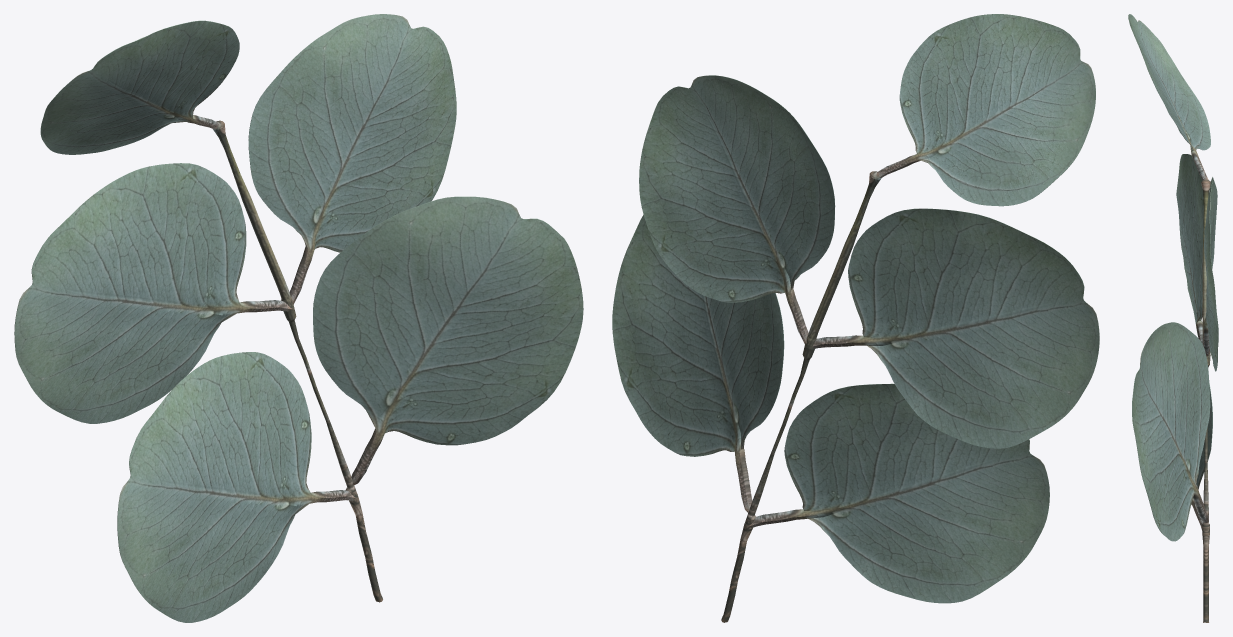
File: Eucalyptus.glb
The picture shows the model from 3 angles, left to right: view 1: azimuth 30°, elevation 25°; view 2: azimuth 150°, elevation 25°; view 3: azimuth 270°, elevation 25°; orthographic projection. The views are drawn at different scales.
Parts seen in each view (by area): view 1: Eucalyptus leaf.001, Eucalyptus leaf.004, Eucalyptus leaf.002, Eucalyptus leaf.005, Eucalyptus leaf.003; view 2: Eucalyptus leaf.004, Eucalyptus leaf.005, Eucalyptus leaf.002, Eucalyptus leaf.003, Eucalyptus leaf.001; view 3: Eucalyptus leaf.001, Eucalyptus leaf.003, Eucalyptus leaf.002, Eucalyptus leaf.004, Eucalyptus leaf.005.
Part boxes in pixels (x1,y1,x2,y2): Eucalyptus leaf.001: (313, 196, 583, 484); Eucalyptus leaf.004: (14, 163, 292, 423); Eucalyptus leaf.002: (213, 14, 456, 602); Eucalyptus leaf.005: (117, 352, 357, 622); Eucalyptus leaf.003: (40, 20, 239, 154); Eucalyptus leaf.004: (812, 208, 1099, 448); Eucalyptus leaf.005: (745, 383, 1049, 603); Eucalyptus leaf.002: (639, 75, 881, 622); Eucalyptus leaf.003: (876, 14, 1095, 206); Eucalyptus leaf.001: (612, 215, 784, 512); Eucalyptus leaf.001: (1132, 322, 1210, 541); Eucalyptus leaf.003: (1128, 14, 1210, 180); Eucalyptus leaf.002: (1201, 177, 1218, 622); Eucalyptus leaf.004: (1176, 154, 1203, 343); Eucalyptus leaf.005: (1191, 383, 1212, 530).
Size of the model in its own units: 12.52 by 14.84 by 2.43.
1 material, 1 textured.
